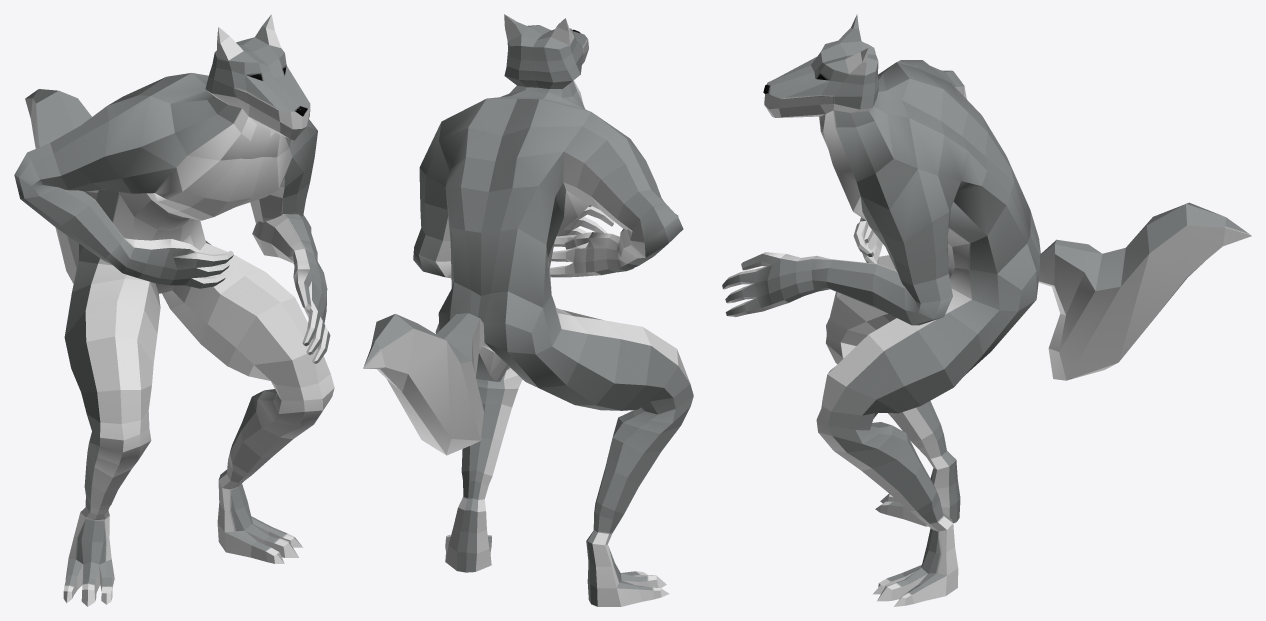
The model's file is WolfIdle_(42).obj.
3 views of the same model, side by side, from view 1: azimuth 30°, elevation 25°; view 2: azimuth 150°, elevation 25°; view 3: azimuth 270°, elevation 25° (orthographic). The views are drawn at different scales.
Visible parts, largest first — view 1: Box001; view 2: Box001; view 3: Box001.
Part boxes in pixels (x1,y1,x2,y2): Box001: (14,14,334,606); Box001: (363,14,693,606); Box001: (722,14,1251,606).
Bounding box in the file's own units: 69.08 × 132 × 116.
